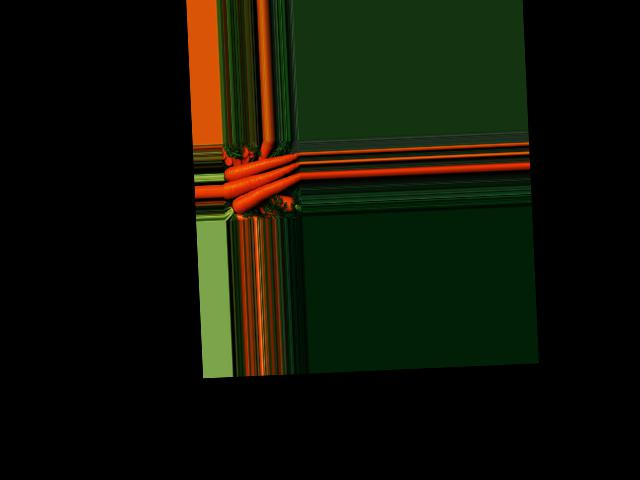carrot: (232, 172, 300, 215)
